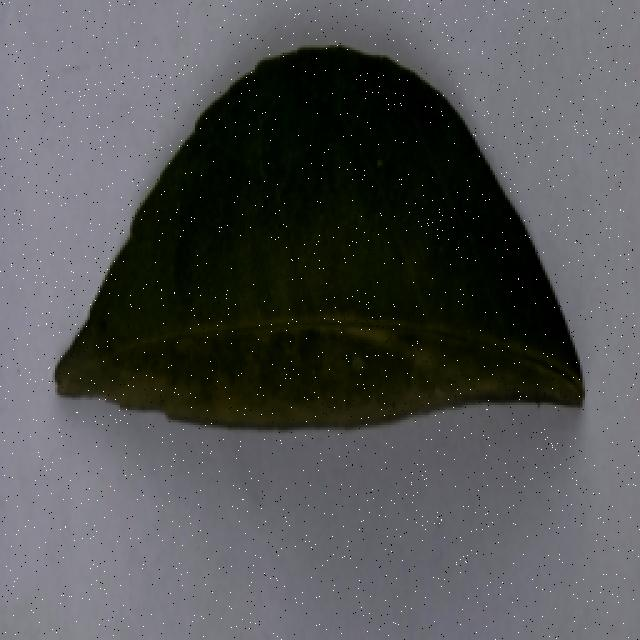healthy: (39, 41, 596, 457)
